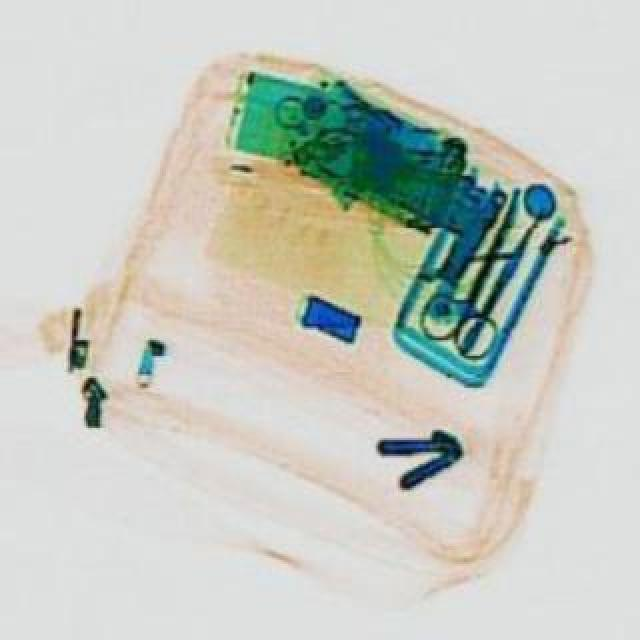pliers: (406, 170, 560, 358)
